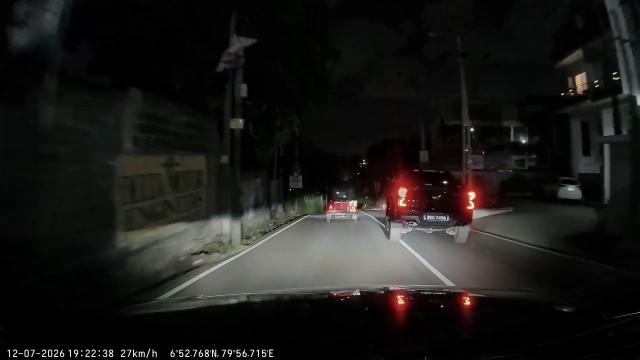illegal overtaking: (378, 162, 478, 253)
number plate: (421, 212, 450, 223)
